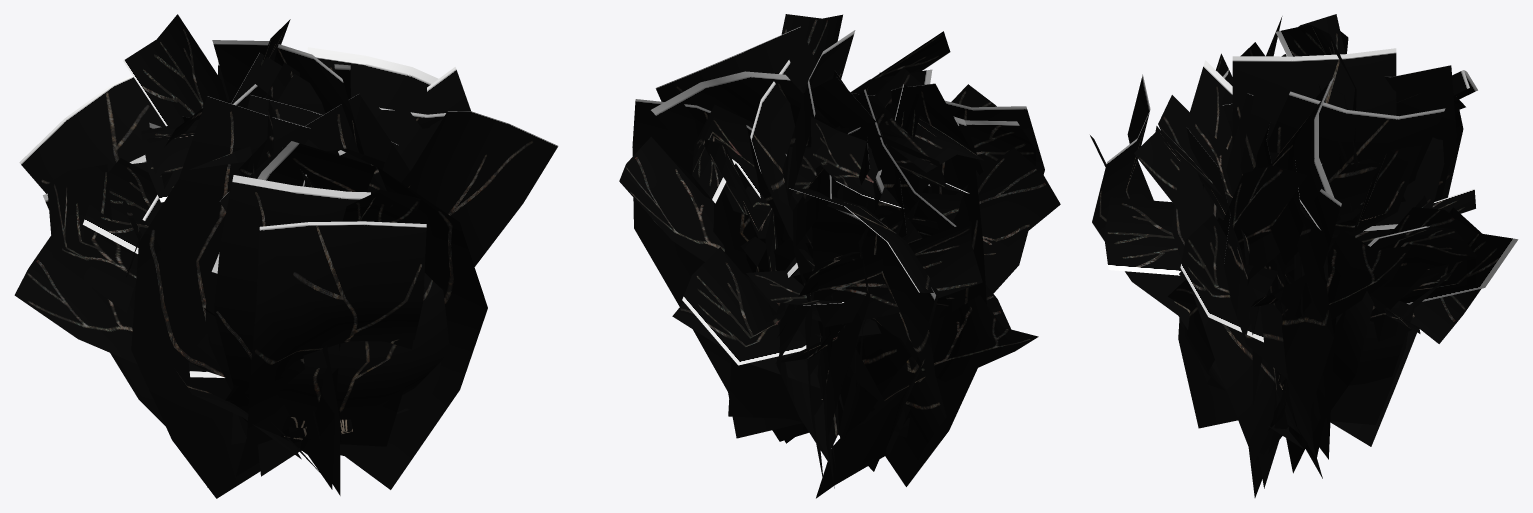
File: BushGrass.FBX
3 views of the same model, side by side, from view 1: azimuth 30°, elevation 25°; view 2: azimuth 150°, elevation 25°; view 3: azimuth 270°, elevation 25° (orthographic). The views are drawn at different scales.
Visible parts, largest first — view 1: Bush1, Bush2; view 2: Bush2, Bush1; view 3: Bush2, Bush1.
Part boxes in pixels (bbox=[...]): Bush1: bbox=[14, 14, 487, 489]; Bush2: bbox=[19, 19, 558, 498]; Bush2: bbox=[619, 26, 1060, 486]; Bush1: bbox=[651, 14, 1044, 498]; Bush2: bbox=[1104, 16, 1518, 488]; Bush1: bbox=[1090, 14, 1481, 497].
Size of the model in its own units: 176 by 164 by 146.
Materials: 1 (1 with a texture image).
